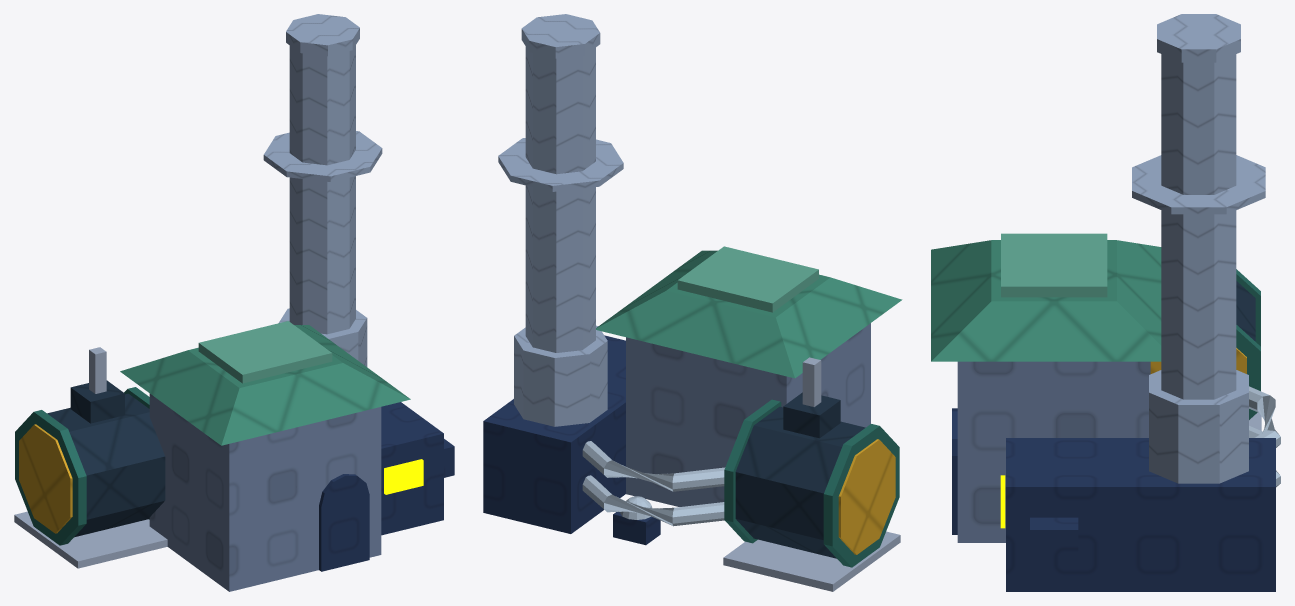
The model's file is Centrale_Vapeur.glb.
The picture shows the model from 3 angles, left to right: view 1: azimuth 30°, elevation 25°; view 2: azimuth 150°, elevation 25°; view 3: azimuth 270°, elevation 25°; orthographic projection. The views are drawn at different scales.
Visible parts, largest first — view 1: Centrale_Vapeur; view 2: Centrale_Vapeur; view 3: Centrale_Vapeur.
Boxes of the visible parts, <box> form: Centrale_Vapeur: <box>14,14,454,591</box>; Centrale_Vapeur: <box>483,14,902,591</box>; Centrale_Vapeur: <box>931,14,1280,591</box>.
Bounding box in the file's own units: 5.02 × 6.12 × 3.62.
11 materials, 6 textured.
